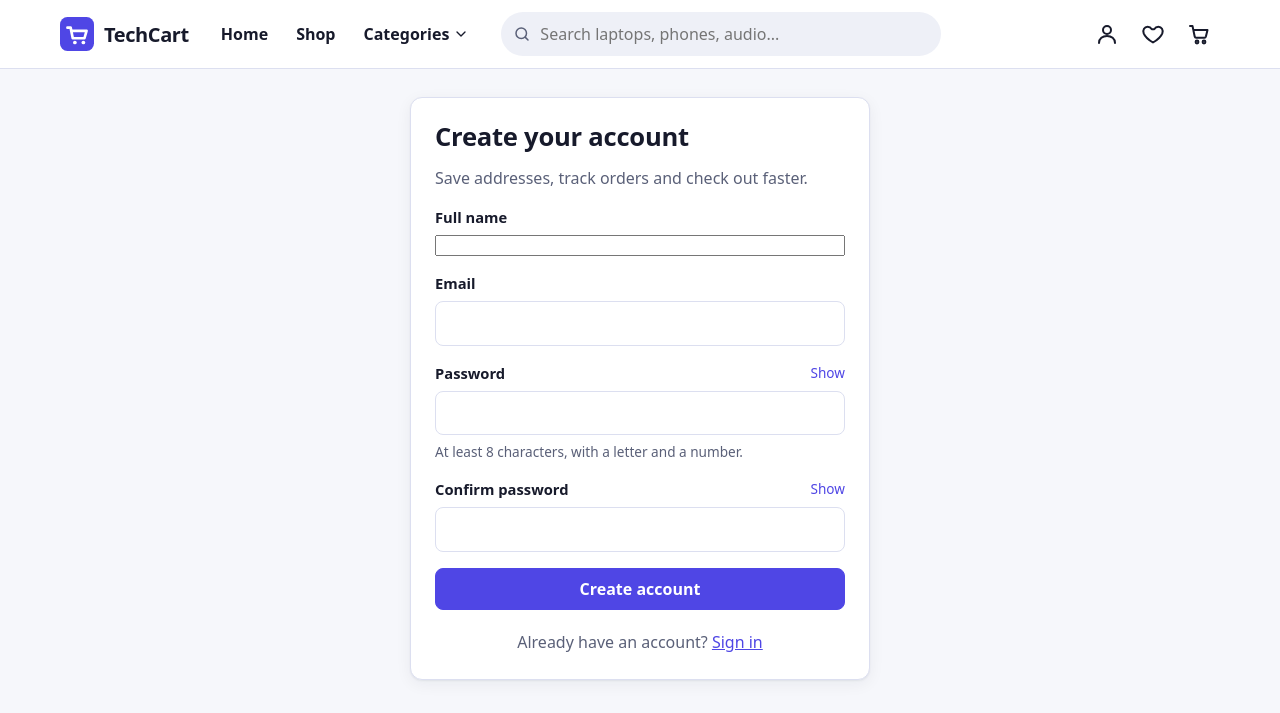
Test case: registration › rejects an invalid email, a weak password and mismatched confirmation
Type "Ada" into the field labelled "Full name" at point(640, 246), box [435, 235, 845, 256]
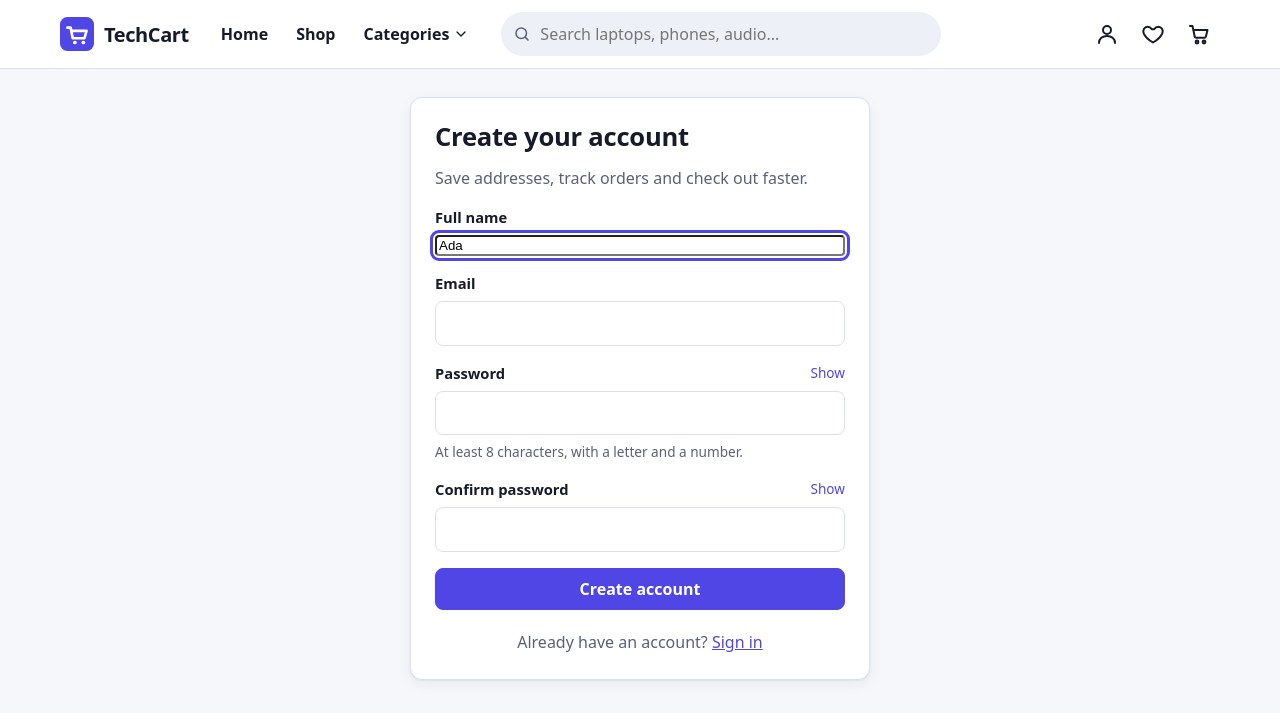
Type "not-an-email" into the field labelled "Email" at point(640, 323), box [435, 301, 845, 346]
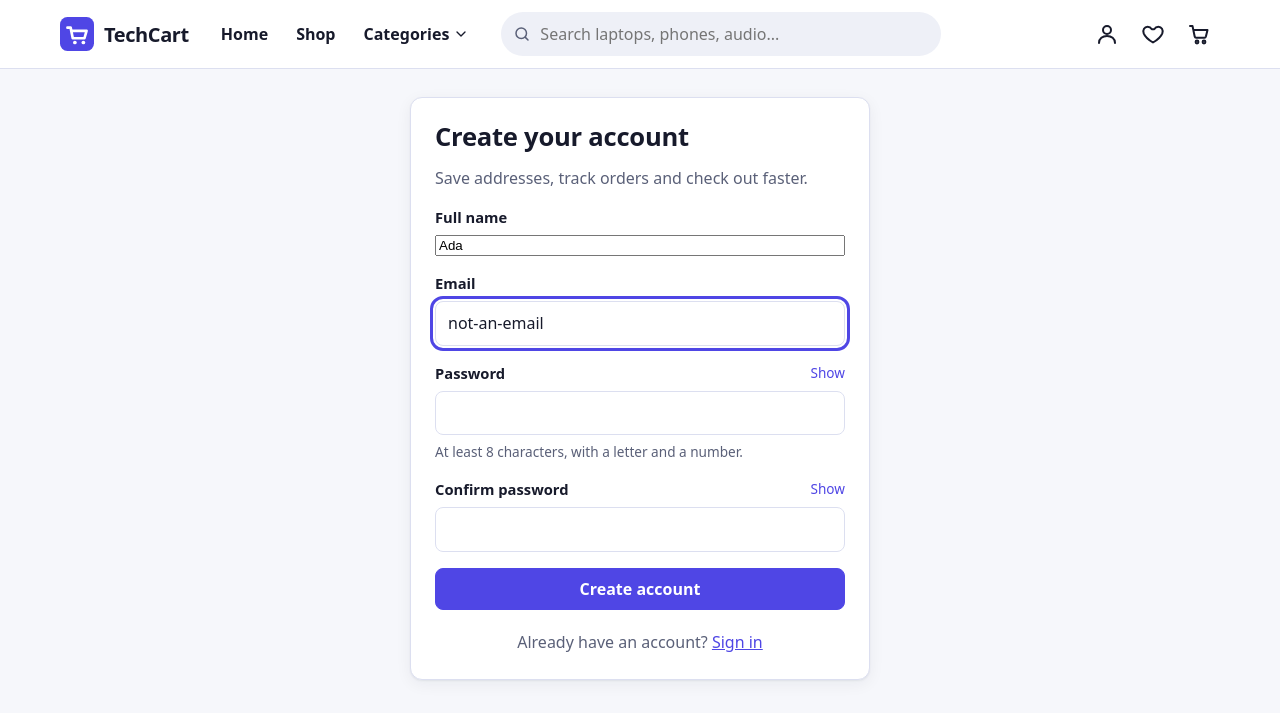
Type "short" into the password field labelled "Password" at point(640, 413), box [435, 390, 845, 435]
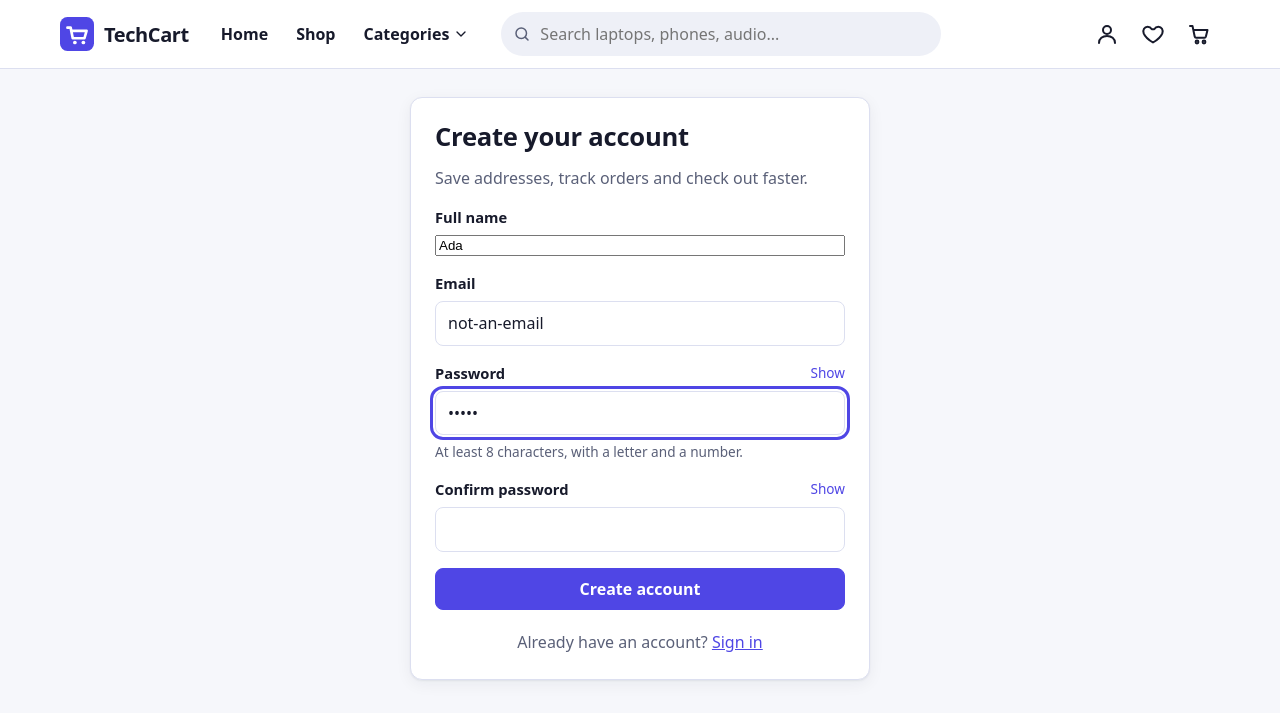
Type "different" into the password field labelled "Confirm password" at point(640, 530), box [435, 507, 845, 552]
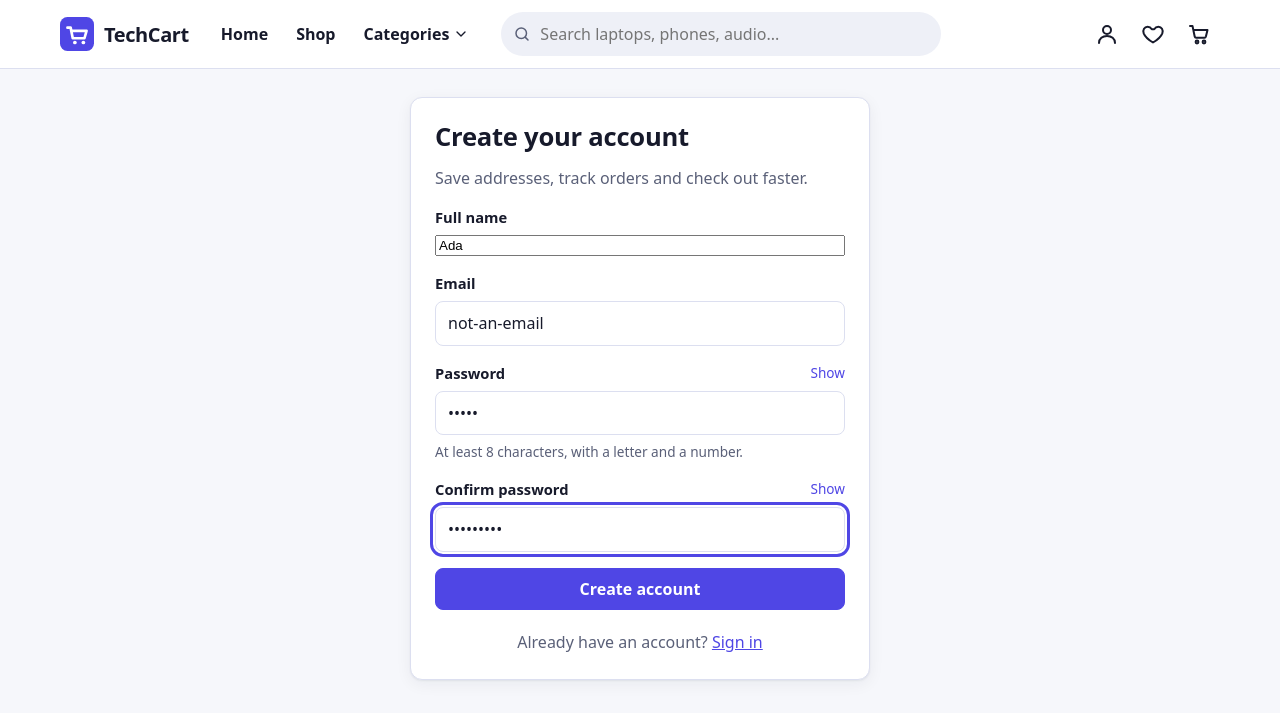
Click the button "Create account" at point(640, 589), box [435, 568, 845, 610]
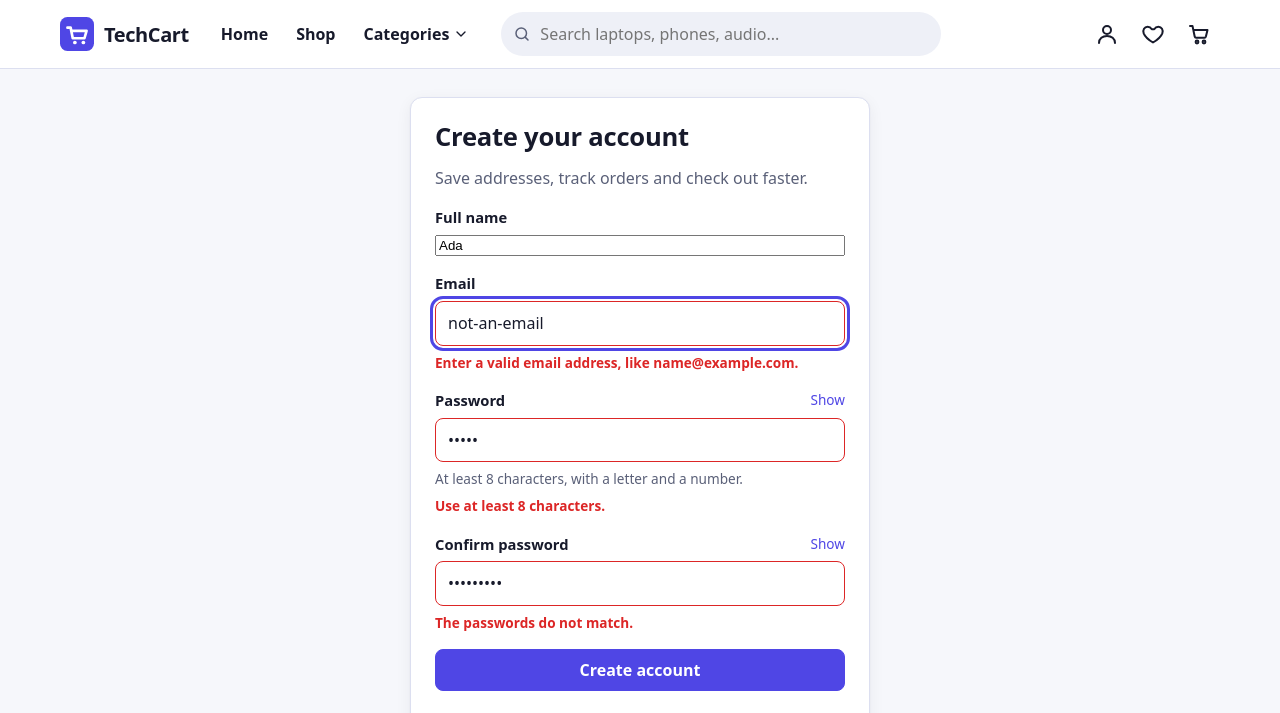
Check: the text "Enter a valid email address, like name@example.com." is shown, box [435, 352, 845, 373]
Check: the text "Use at least 8 characters." is shown, box [435, 496, 605, 516]
Check: the text "The passwords do not match." is shown, box [435, 613, 633, 632]
